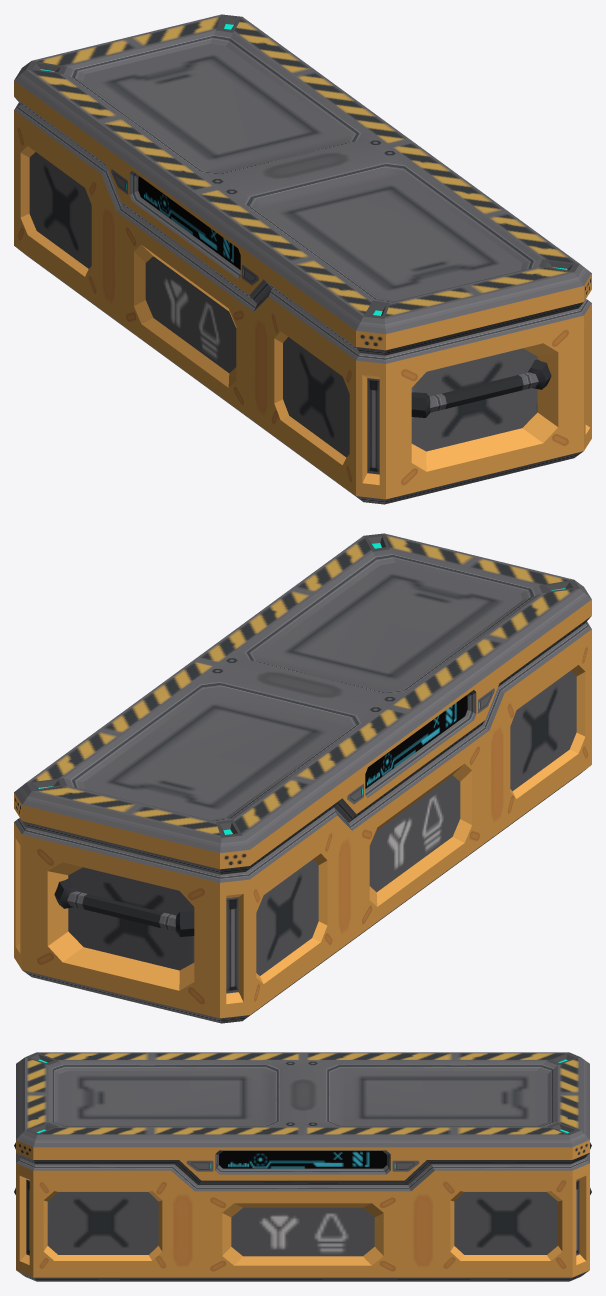
Rendered from SM_Wep_Missile_Crate_01.fbx.
The picture shows the model from 3 angles, top to bottom: view 1: azimuth 30°, elevation 25°; view 2: azimuth 150°, elevation 25°; view 3: azimuth 270°, elevation 25°; orthographic projection. The views are drawn at different scales.
Visible parts, largest first — view 1: SM_Wep_Missile_Crate_01; view 2: SM_Wep_Missile_Crate_01; view 3: SM_Wep_Missile_Crate_01.
Boxes of the visible parts, x1,y1,x2,y2 form: SM_Wep_Missile_Crate_01: (14,14,591,504); SM_Wep_Missile_Crate_01: (14,533,591,1023); SM_Wep_Missile_Crate_01: (14,1052,591,1281).
Bounding box in the file's own units: 65.41 × 49.16 × 176.
